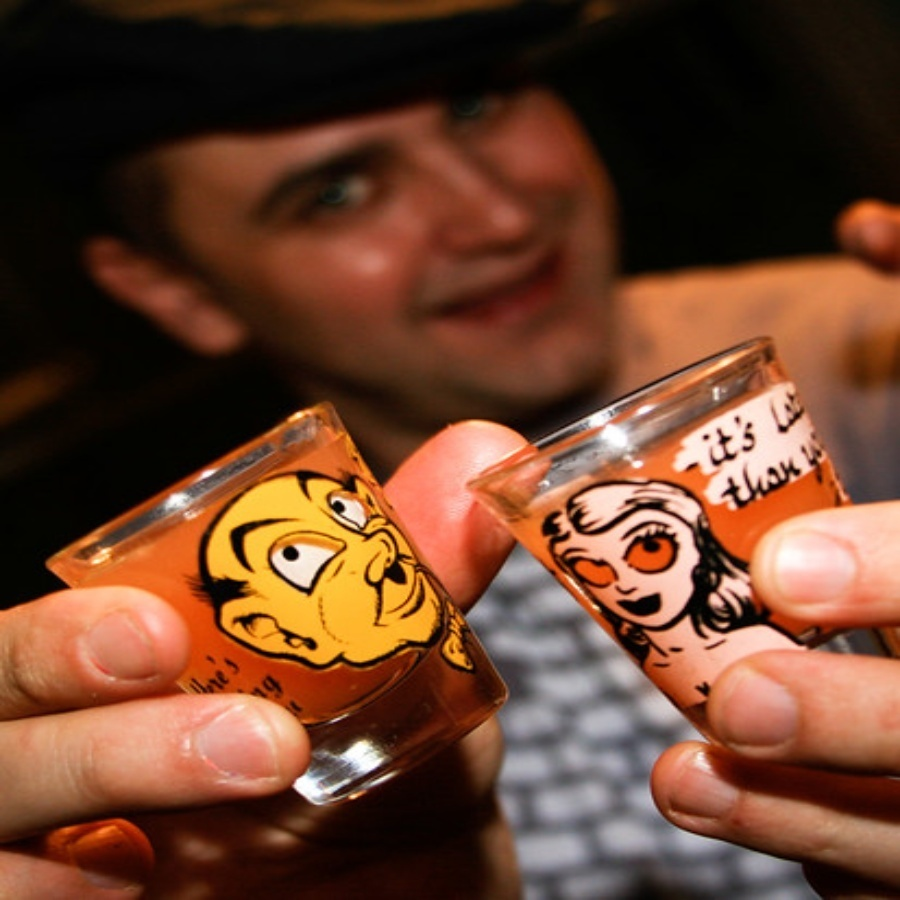whiskey: (53, 400, 485, 817), (512, 343, 874, 747)
